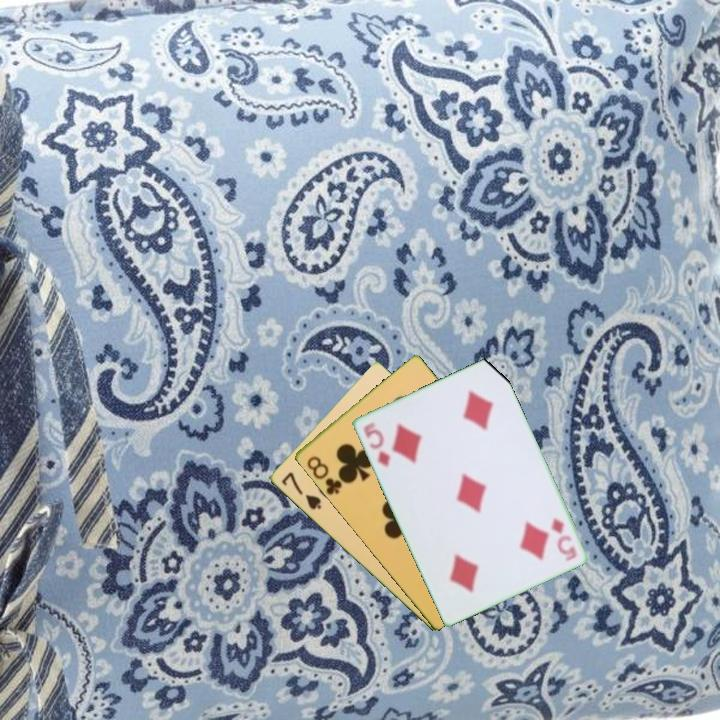5d: (359, 419, 393, 470), (547, 514, 580, 564)
7s: (277, 468, 324, 513)
8c: (303, 452, 348, 498)
